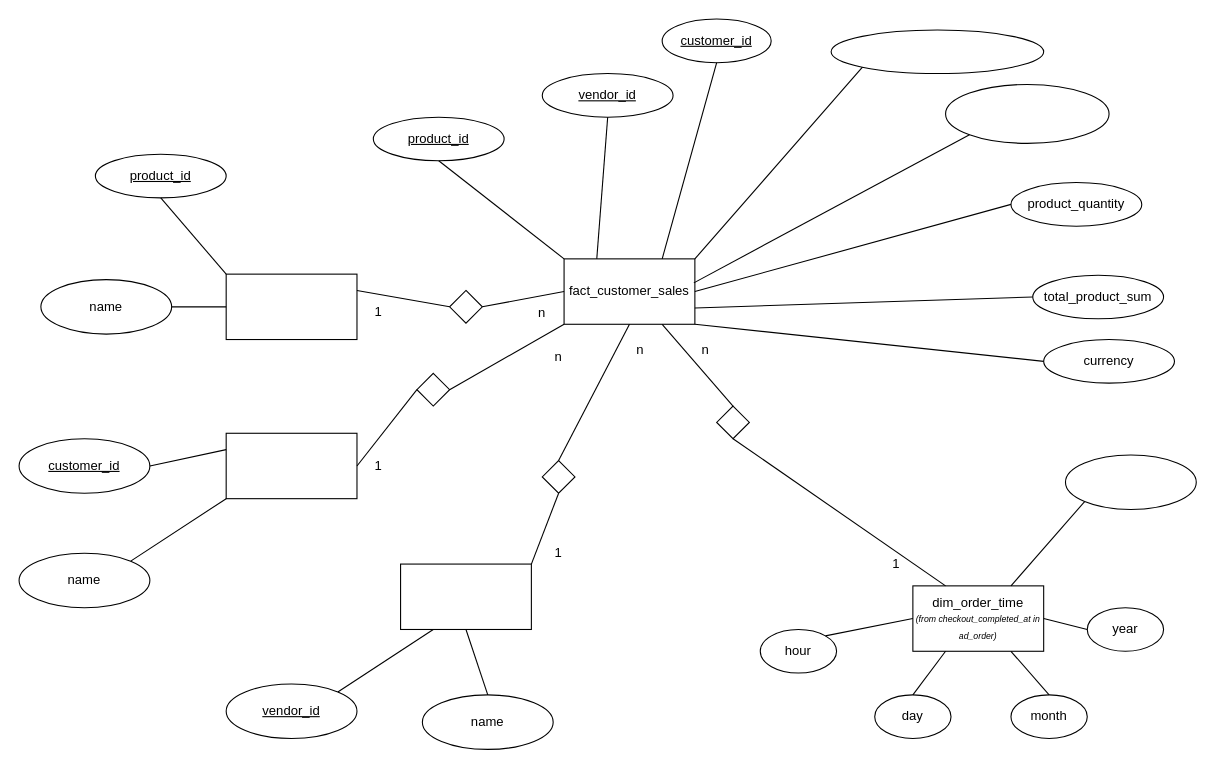
Image size: 1215x768. Some labels were removed from this diagram. The centre of each missing label's shape, as x and y in pixels:
"customer_order_number (from number in ad_order)" goes at point 1026,113.
"date_hour" goes at point 1130,482.
"date_hour_checkout_completed" goes at point 937,51.
"dim_customer" goes at point 291,465.
"dim_product" goes at point 291,306.
"dim_vendor" goes at point 465,596.
